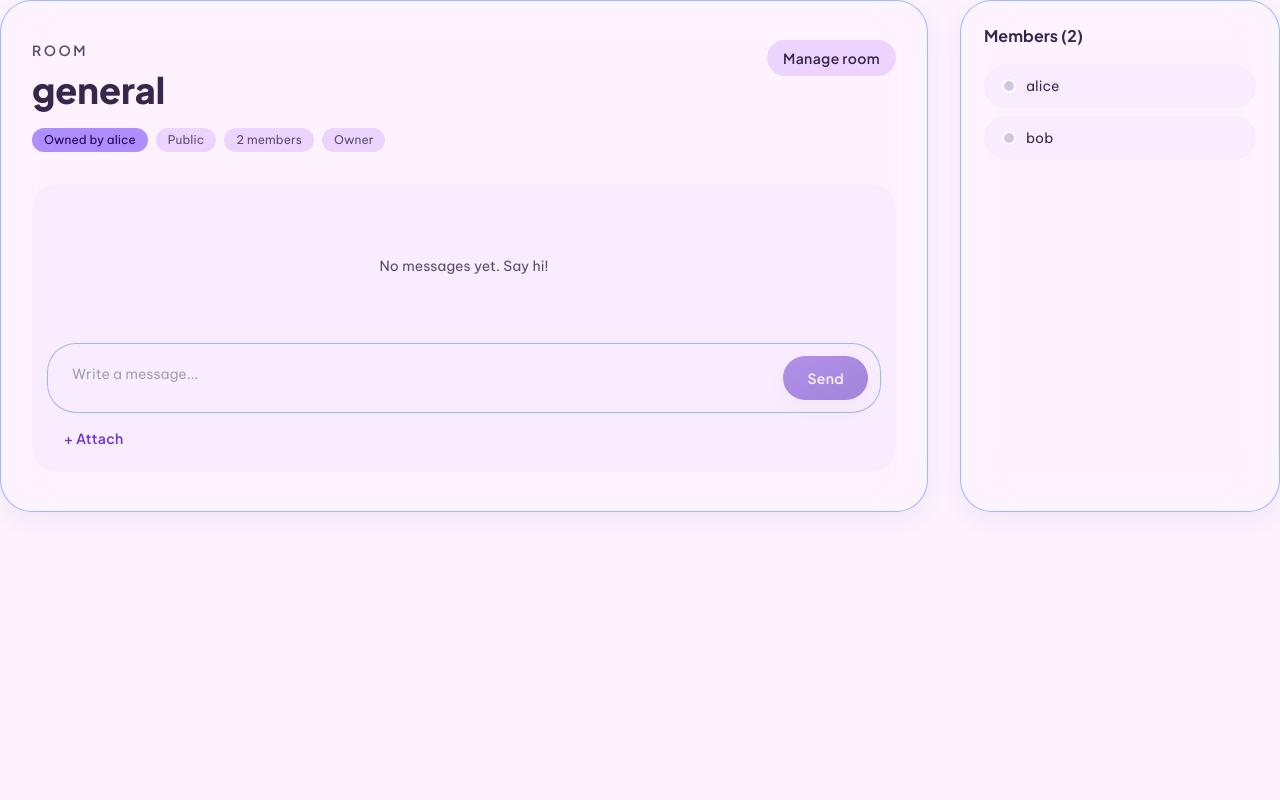
Test: <RoomRoute /> (/rooms/$roomId) › shows the "Manage room" button for owners and opens the modal on click
The image size is (1280, 800).
Click the button with test id "manage-room-button": (832, 58) left=767, top=40, right=896, bottom=76
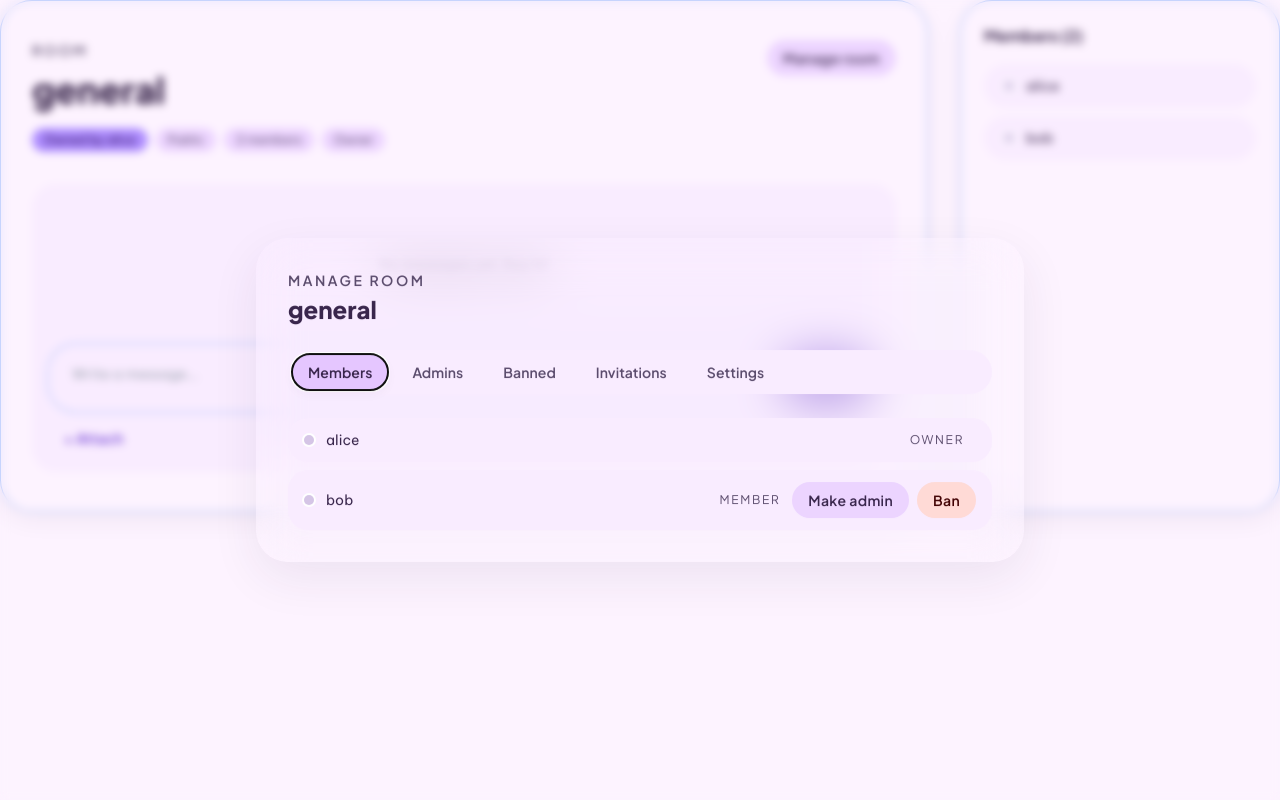
Now the dialog with test id "manage-room-modal" is shown, box left=256, top=238, right=1024, bottom=562
